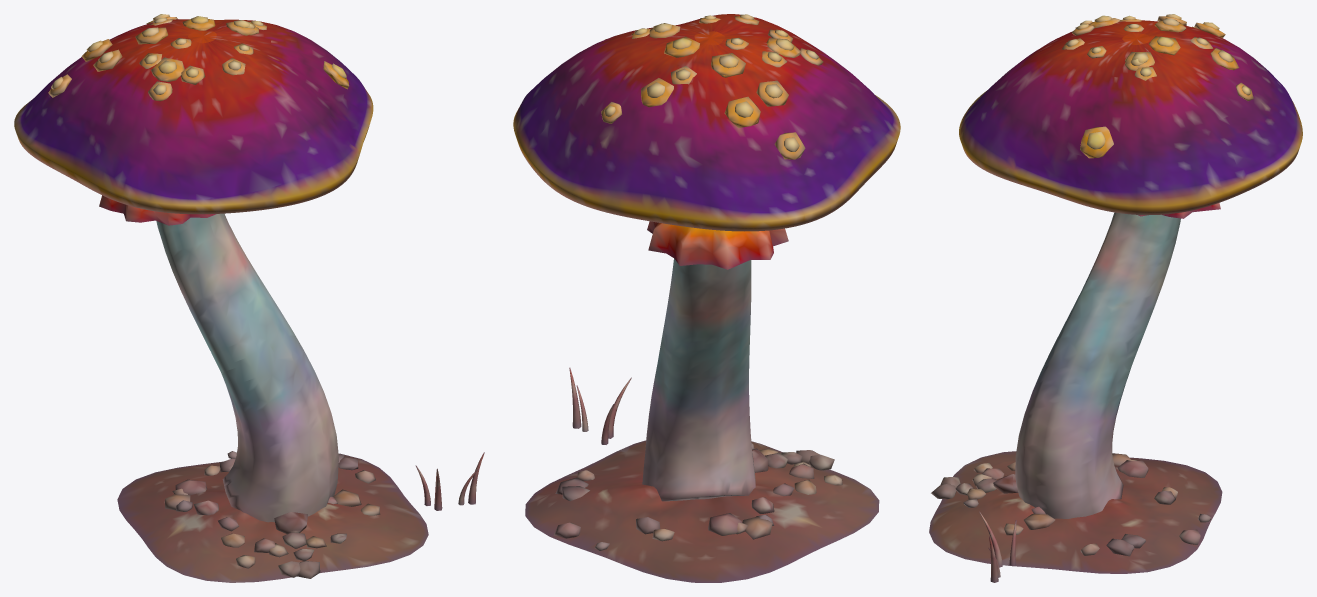
The model's file is mantar_kume_3.glb.
3 renders of one model, left to right at view 1: azimuth 30°, elevation 25°; view 2: azimuth 150°, elevation 25°; view 3: azimuth 270°, elevation 25°, orthographic. The views are drawn at different scales.
Parts seen in each view (by area): view 1: mantar_kume_3_LOD0; view 2: mantar_kume_3_LOD0; view 3: mantar_kume_3_LOD0.
Part boxes in pixels (left/top/right/bottom): mantar_kume_3_LOD0: left=14, top=14, right=484, bottom=582; mantar_kume_3_LOD0: left=513, top=14, right=900, bottom=582; mantar_kume_3_LOD0: left=929, top=14, right=1302, bottom=582.
Size of what is drawn, in the model's own units: 9.15 by 12.14 by 8.6.
